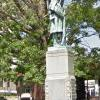Statue: (36, 1, 79, 62)
